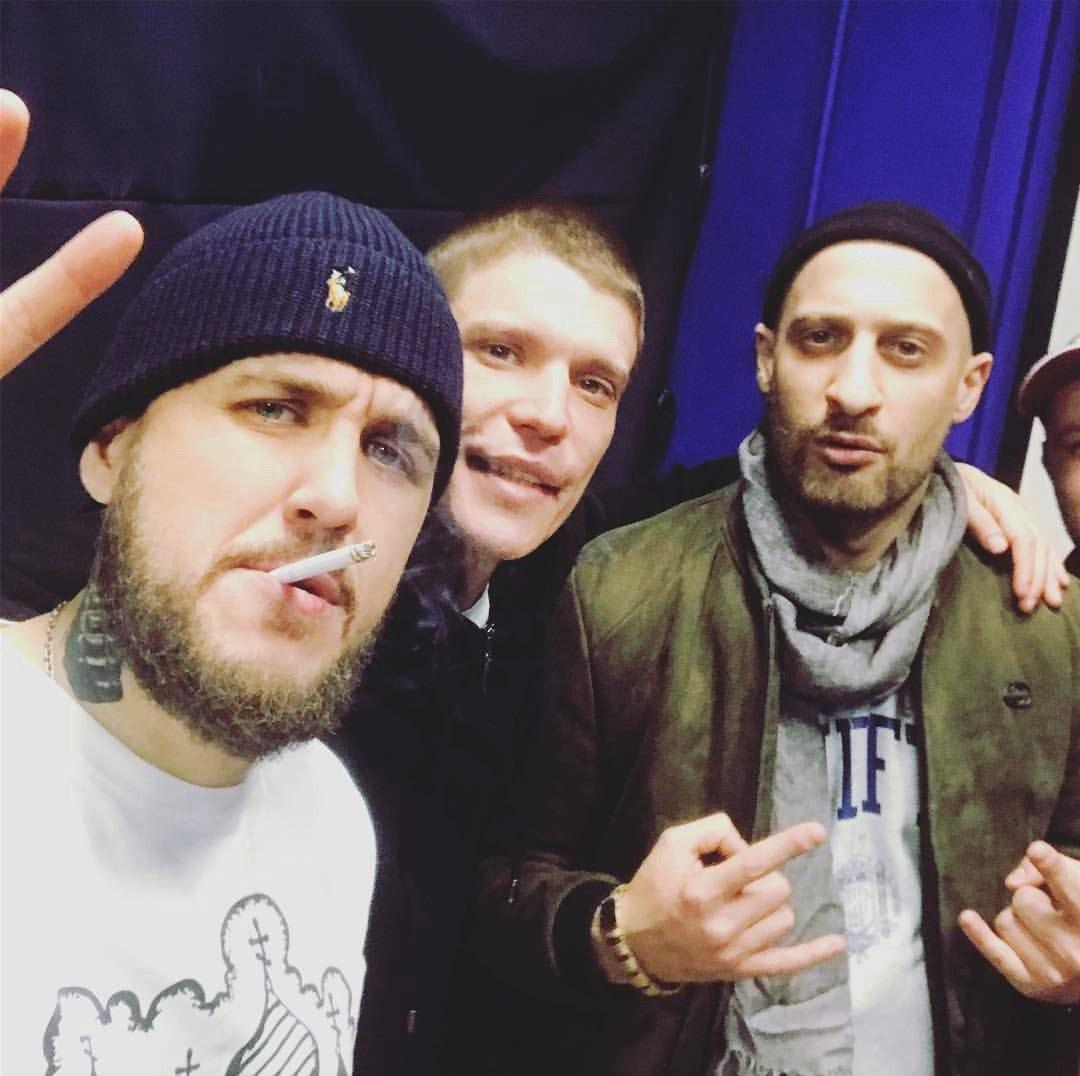cigarette: (268, 543, 376, 583)
